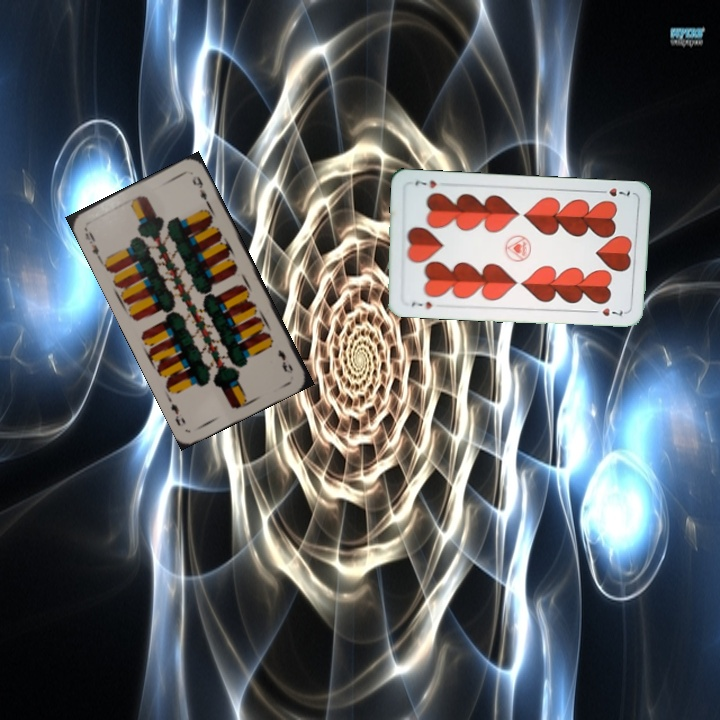E9: (80, 224, 104, 262), (274, 345, 296, 376)
H7: (594, 184, 633, 199), (407, 297, 435, 311)
